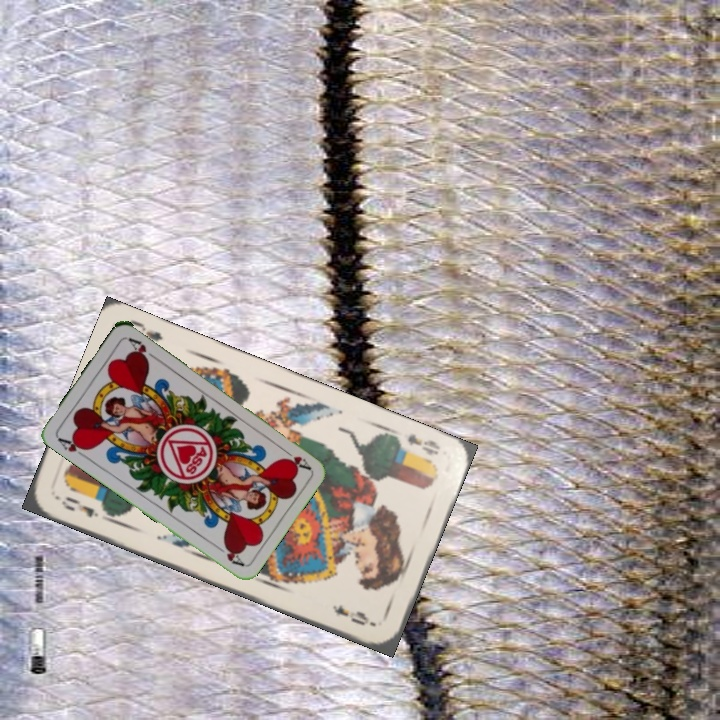EO: (57, 492, 102, 520), (403, 429, 444, 458)
HA: (53, 433, 92, 461), (277, 443, 313, 472)
